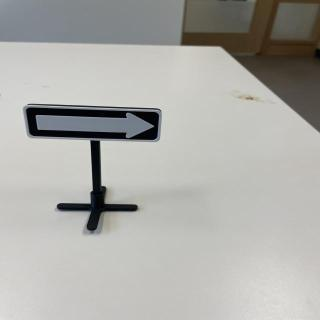sign_oneway_right: (24, 104, 164, 144)
